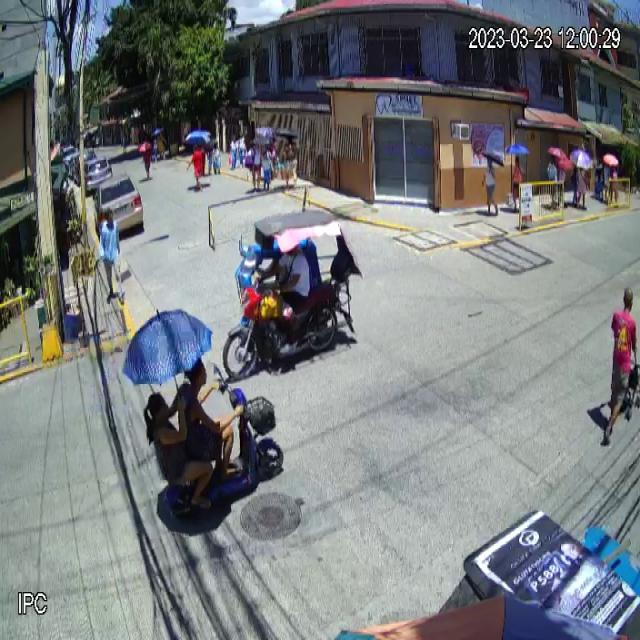Tricycle: (224, 210, 362, 380)
